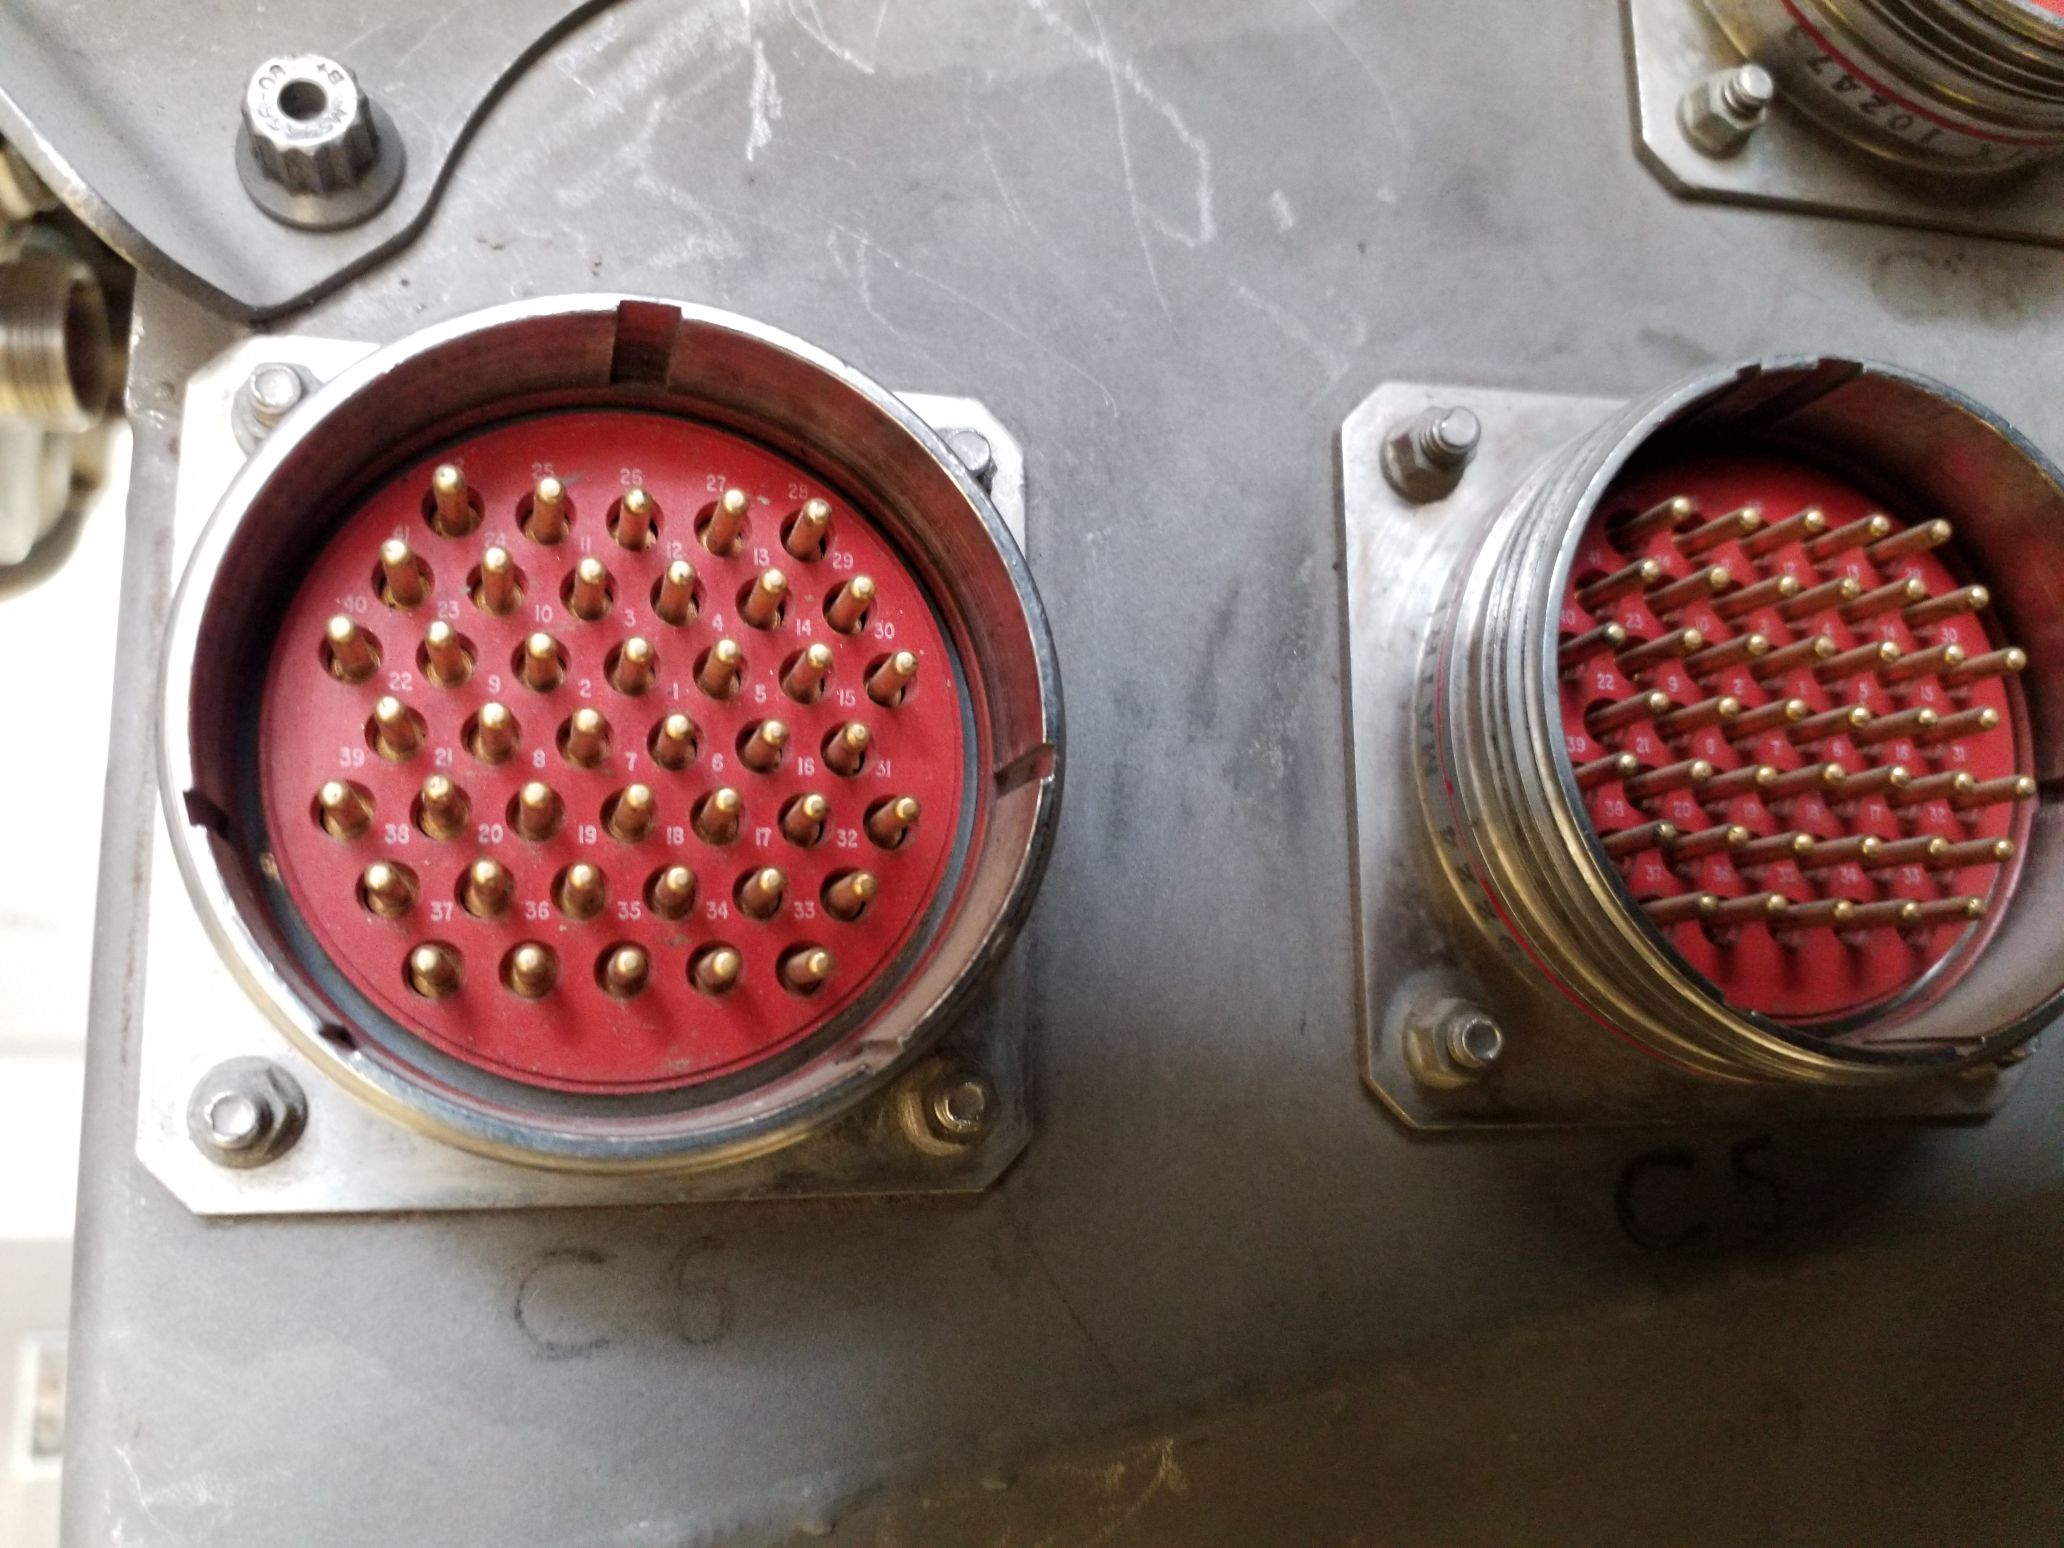outlet: (141, 280, 1066, 1198), (1354, 328, 2064, 1114)
